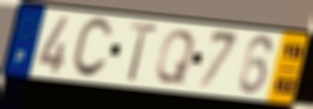4: (35, 14, 71, 75)
6: (238, 33, 274, 97)
7: (198, 28, 242, 93)
C: (69, 16, 114, 81)
Q: (153, 28, 197, 85)
T: (126, 20, 160, 84)
